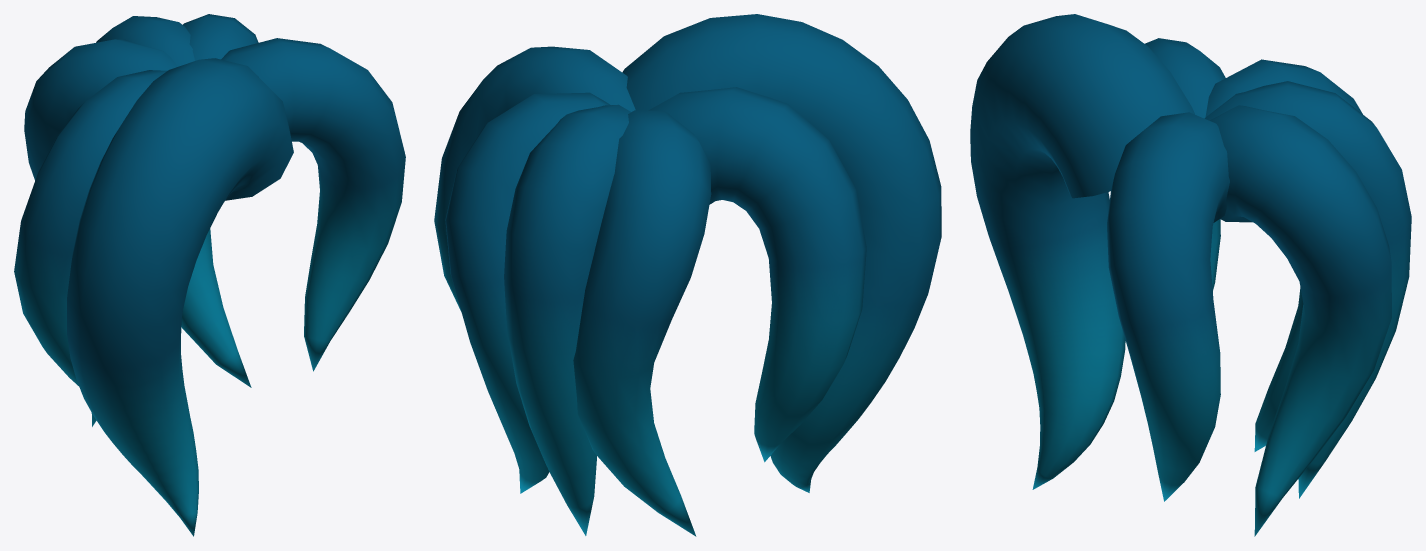
File: ChitioHair2.fbx
3 renders of one model, left to right at view 1: azimuth 30°, elevation 25°; view 2: azimuth 150°, elevation 25°; view 3: azimuth 270°, elevation 25°, orthographic. The views are drawn at different scales.
Parts seen in each view (by area): view 1: Hair2; view 2: Hair2; view 3: Hair2.
Boxes of the visible parts, box(x1,y1,x2,y2) form: Hair2: box(14, 14, 405, 536); Hair2: box(434, 14, 941, 536); Hair2: box(970, 14, 1411, 536).
Bounding box in the file's own units: 0.2512 × 0.2738 × 0.2296.
